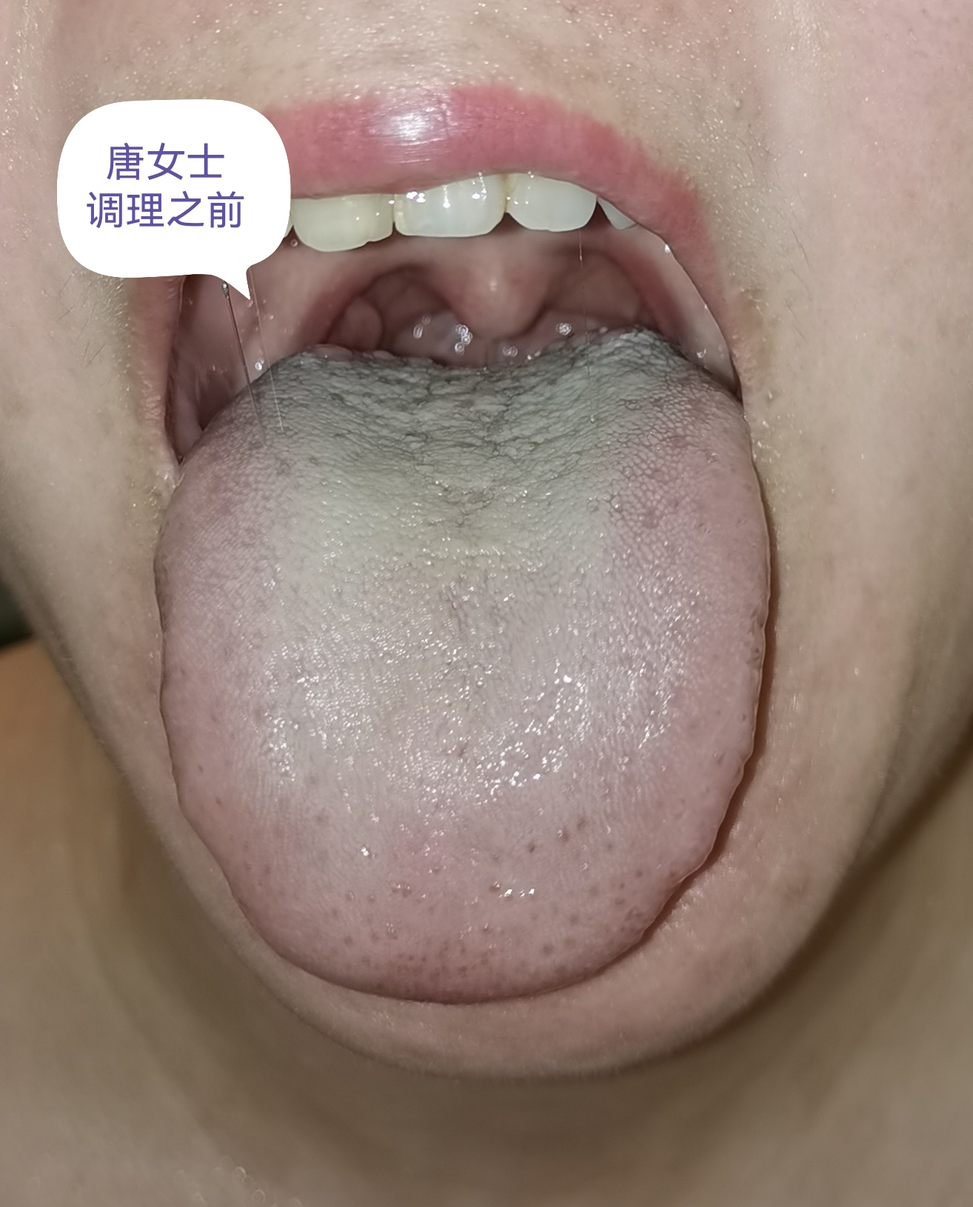baitaishe: (153, 329, 770, 1003)
hongdianshe: (338, 820, 599, 958)
